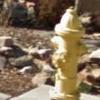Hydrant: (43, 4, 88, 100)
